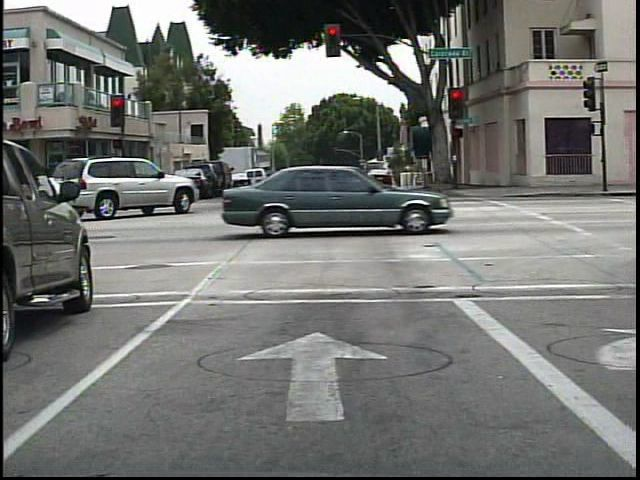person: (308, 159, 337, 204)
